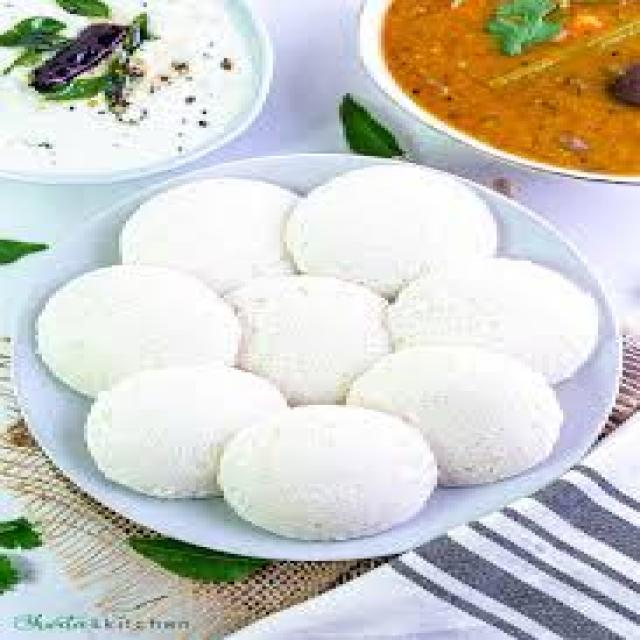IDLI: (323, 347, 569, 488), (208, 400, 444, 532), (77, 369, 297, 502), (34, 265, 248, 394), (386, 254, 605, 377), (287, 170, 498, 294), (122, 177, 314, 289), (235, 282, 399, 409)
